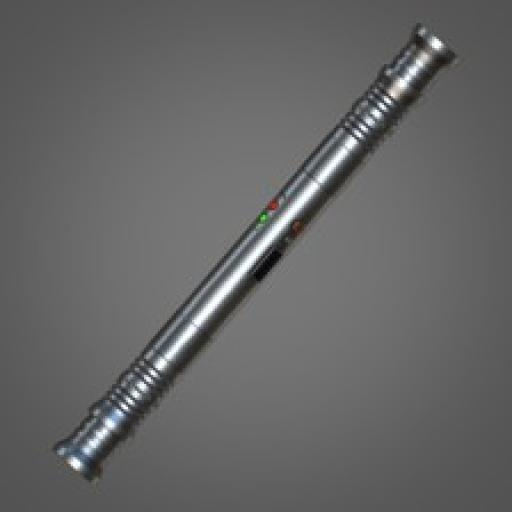lightsaber: (52, 22, 457, 487)
